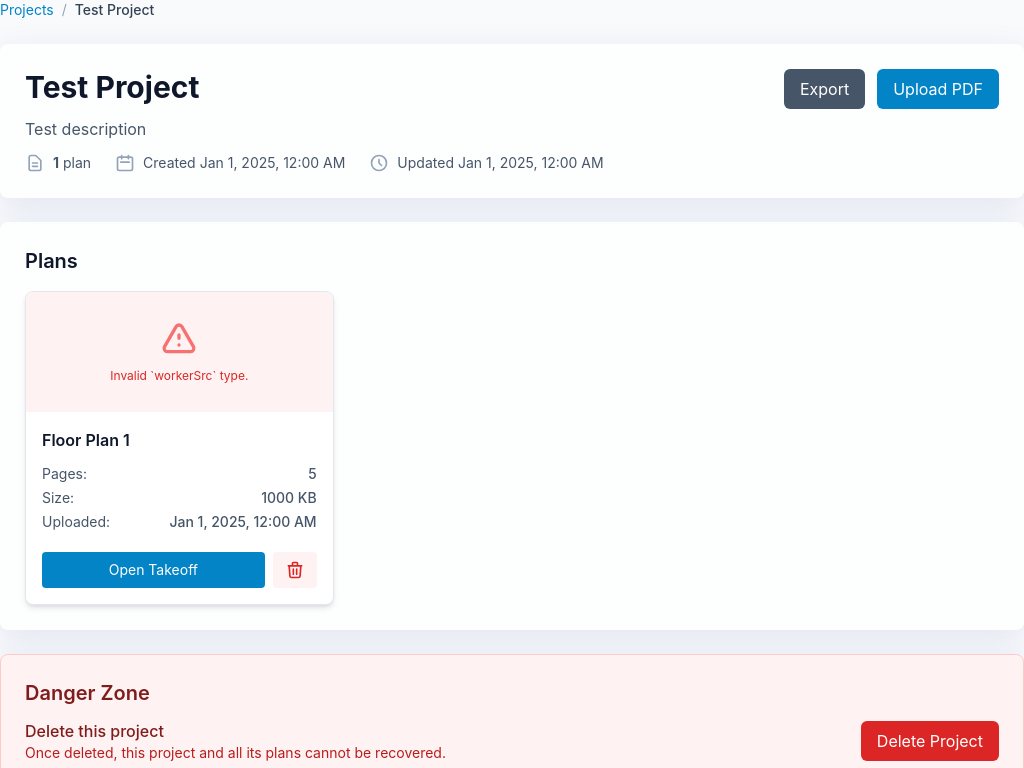
Test case: ProjectDetailPage - Export Dialog Integration › Export Dialog Workflow › should close export dialog when cancel is clicked
Open dialog
Step 1. Click the button "Export" → coordinates (825, 89), box x1=784 y1=69 x2=865 y2=109
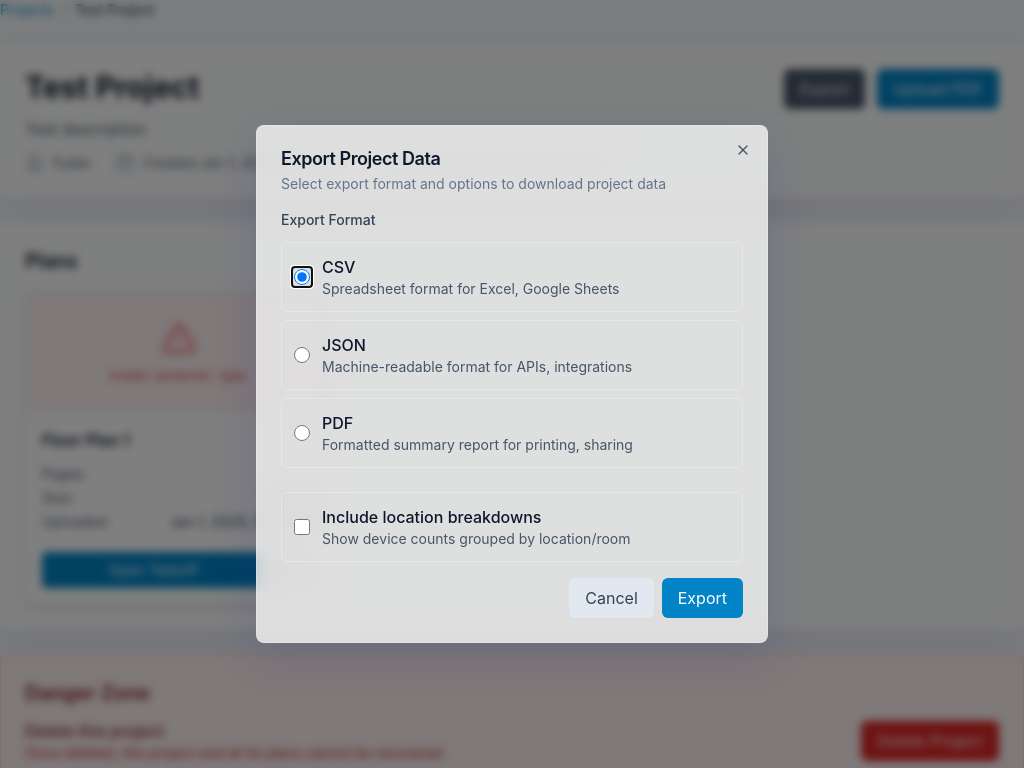
expect the heading "Export Project Data" is shown: met, box x1=281 y1=148 x2=440 y2=169
Click cancel
Step 2. Click the button "Cancel" → coordinates (612, 598), box x1=569 y1=578 x2=654 y2=618
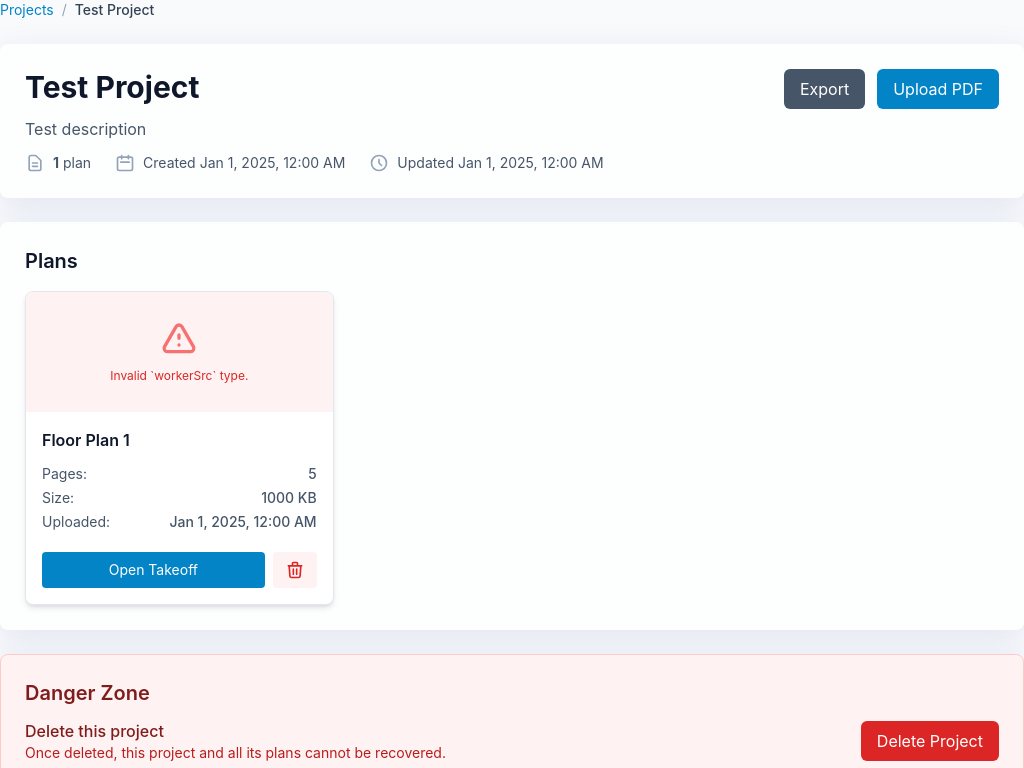
expect the heading "Export Project Data" is gone: met
